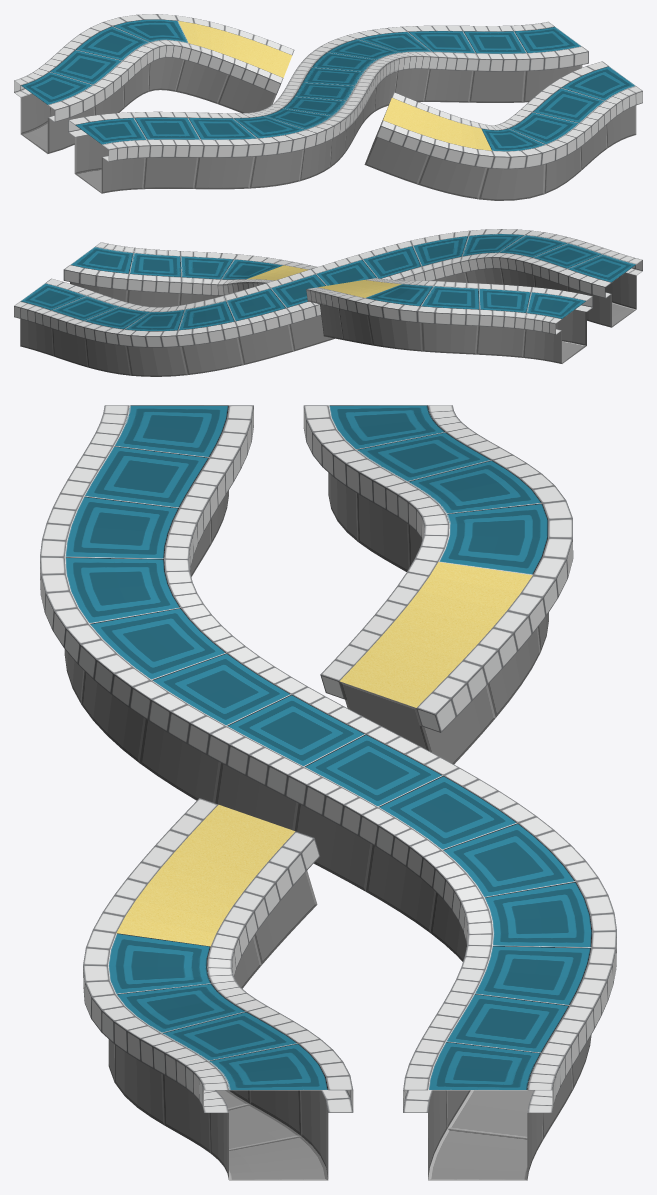
Rendered from BridgeWarningBMCurves.obj.
3 renders of one model, top to bottom at view 1: azimuth 30°, elevation 25°; view 2: azimuth 150°, elevation 25°; view 3: azimuth 270°, elevation 25°, orthographic. The views are drawn at different scales.
Parts seen in each view (by area): view 1: Cube.001_Cube.002, Cube.003_Cube.004, Cube.002_Cube.003; view 2: Cube.001_Cube.002, Cube.002_Cube.003, Cube.003_Cube.004; view 3: Cube.001_Cube.002, Cube.003_Cube.004, Cube.002_Cube.003.
Part boxes in pixels (x1,y1,x2,y2): Cube.001_Cube.002: (68, 21, 588, 193); Cube.003_Cube.004: (364, 61, 642, 200); Cube.002_Cube.003: (14, 14, 294, 153); Cube.001_Cube.002: (14, 229, 642, 376); Cube.002_Cube.003: (306, 278, 593, 363); Cube.003_Cube.004: (63, 242, 316, 307); Cube.001_Cube.002: (40, 405, 616, 1180); Cube.003_Cube.004: (83, 798, 353, 1180); Cube.002_Cube.003: (303, 405, 573, 764).
Bounding box in the file's own units: 24 × 6.57 × 11.6.
